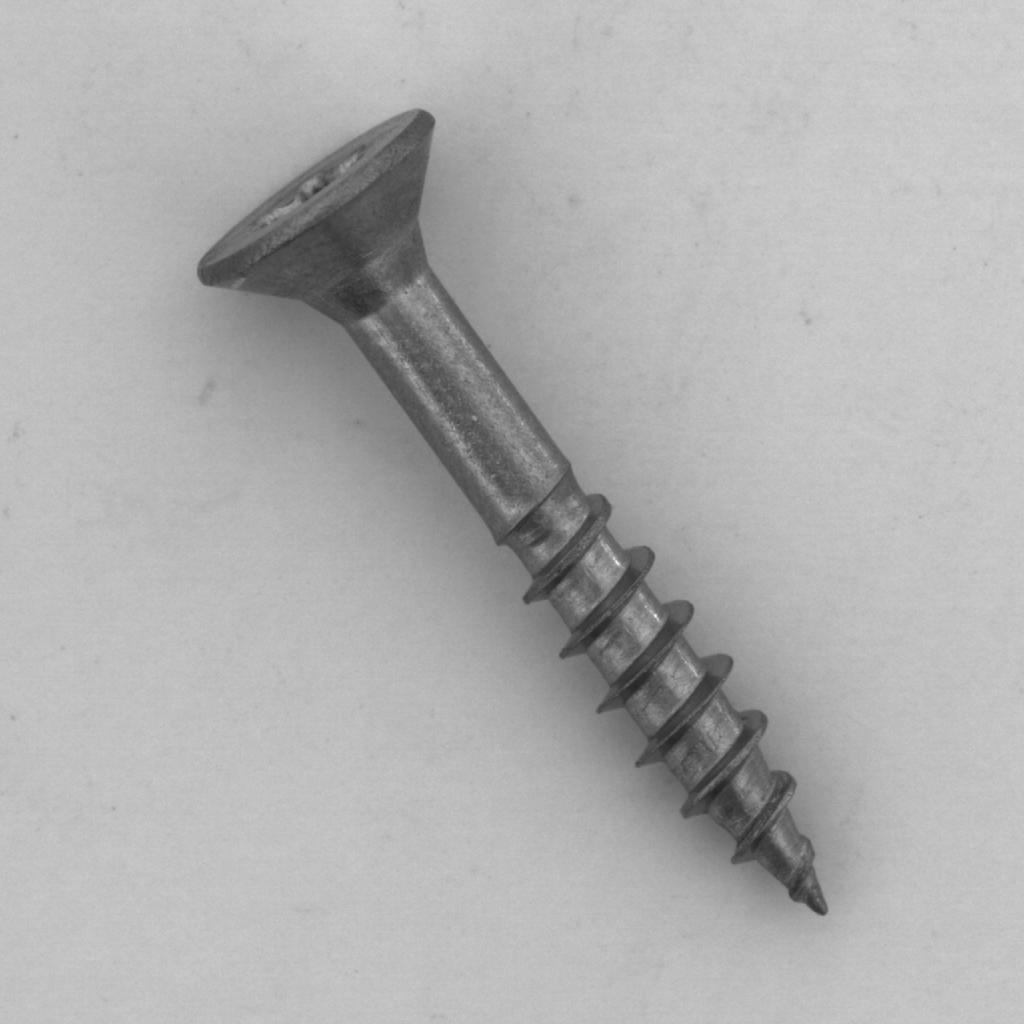good: (183, 92, 854, 937)
